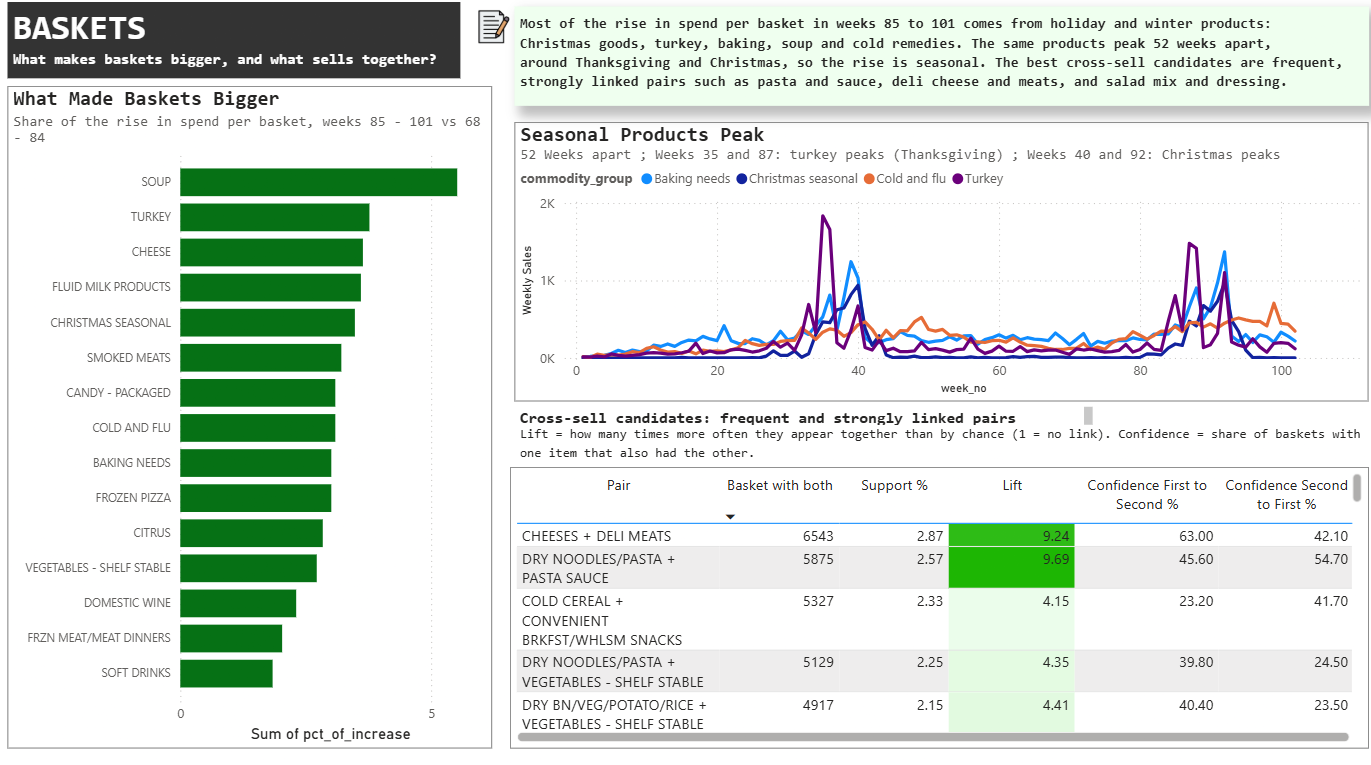

What the dashboard file says about the page in this screenshot:
{"tool":"powerbi","page":{"name":"Baskets","canvas":[1280,720],"ordinal":3},"visuals":[{"type":"textbox","box":[13.1,8.2,419.4,70.4],"z":0},{"type":"clusteredBarChart","title":"What Made Baskets Bigger","fields":{"Category":["public dash_basket_drivers.commodity"],"Y":["Sum(public dash_basket_drivers.pct_of_increase)"]},"box":[12.5,85.6,448.7,613.6],"z":2000},{"type":"lineChart","title":"Seasonal Products Peak","fields":{"Series":["public dash_seasonal.commodity_group"],"Category":["public dash_seasonal.week_no"],"Y":["Sum(public dash_seasonal.sales)"]},"box":[482.1,119,791,258.8],"z":3000},{"type":"tableEx","fields":{"Values":["public dash_pairs.Pair","Sum(public dash_pairs.baskets_both)","Sum(public dash_pairs.support_pct)","Sum(public dash_pairs.lift)","Sum(public dash_pairs.conf_a_to_b_pct)","Sum(public dash_pairs.conf_b_to_a_pct)"]},"box":[477.9,438.3,795.1,260.9],"z":4000},{"type":"textbox","box":[482.1,377.7,540.5,27.1],"z":5000},{"type":"textbox","box":[481.6,13.1,791.3,91.7],"z":6000},{"type":"textbox","box":[482.1,392.4,797.2,45.9],"z":7000},{"type":"image","box":[446.6,8.3,31.3,45.9],"z":8000}]}

Visuals, with their boxes in screenshot pixels (x1, y1, x2, y2), scaled from the page's 1280x720 canvas onto the 1371x765 screenshot:
textbox: box(14, 9, 463, 84)
"What Made Baskets Bigger" clusteredBarChart: box(13, 91, 494, 743)
"Seasonal Products Peak" lineChart: box(516, 126, 1364, 401)
tableEx - public dash_pairs.Pair x Sum(public dash_pairs.baskets_both): box(512, 466, 1364, 743)
textbox: box(516, 401, 1095, 430)
textbox: box(516, 14, 1363, 111)
textbox: box(516, 417, 1370, 466)
image: box(478, 9, 512, 58)
